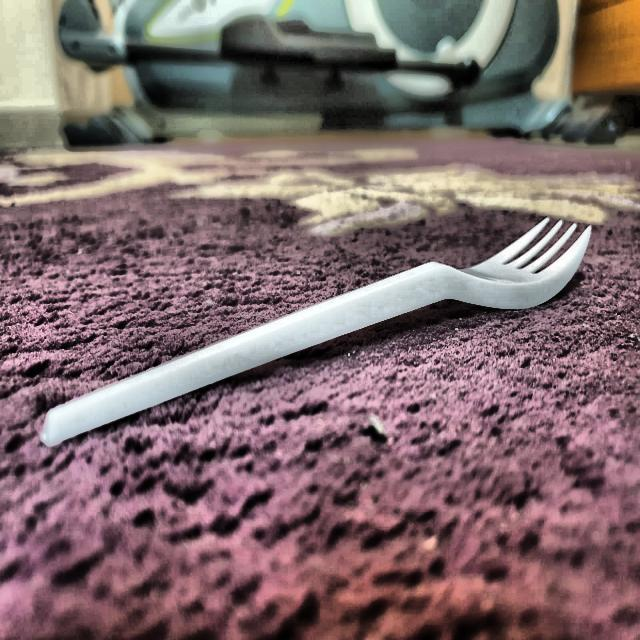plastic utensil: (40, 214, 595, 460)
